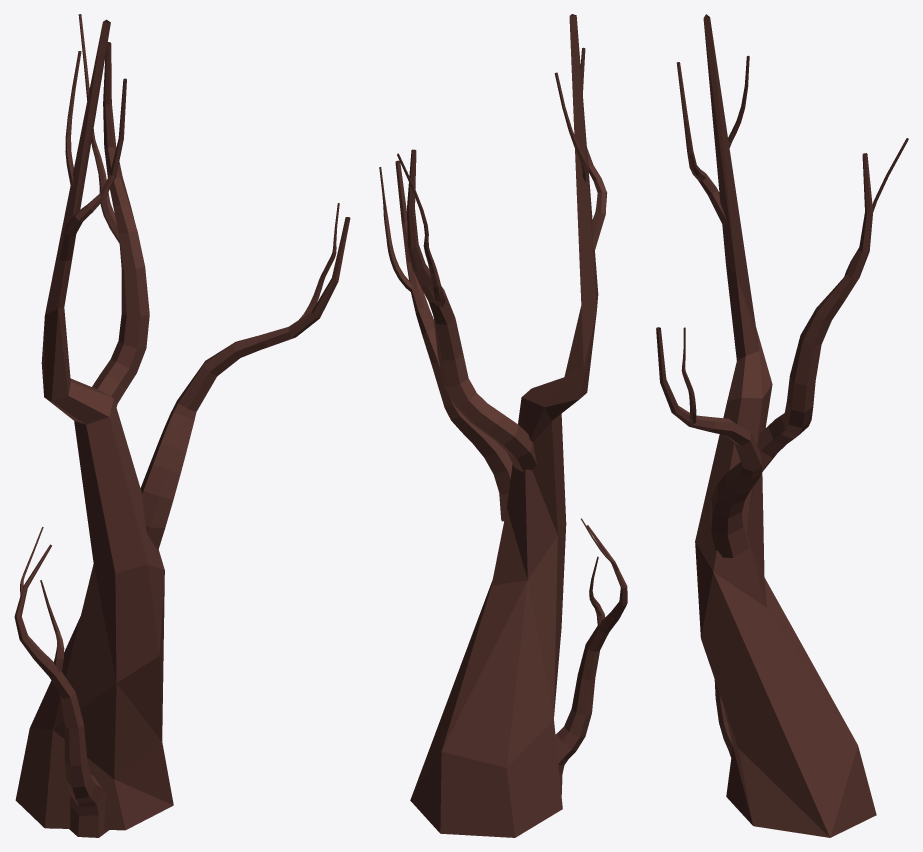
The model's file is small-tree_2.fbx.
The picture shows the model from 3 angles, left to right: view 1: azimuth 30°, elevation 25°; view 2: azimuth 150°, elevation 25°; view 3: azimuth 270°, elevation 25°; orthographic projection. The views are drawn at different scales.
Parts seen in each view (by area): view 1: tree 1.027; view 2: tree 1.027; view 3: tree 1.027.
Boxes of the visible parts, x1,y1,x2,y2 form: tree 1.027: (14,14,350,837); tree 1.027: (379,14,627,837); tree 1.027: (656,14,908,837).
Size of the model in its own units: 2.76 by 7.43 by 2.19.
